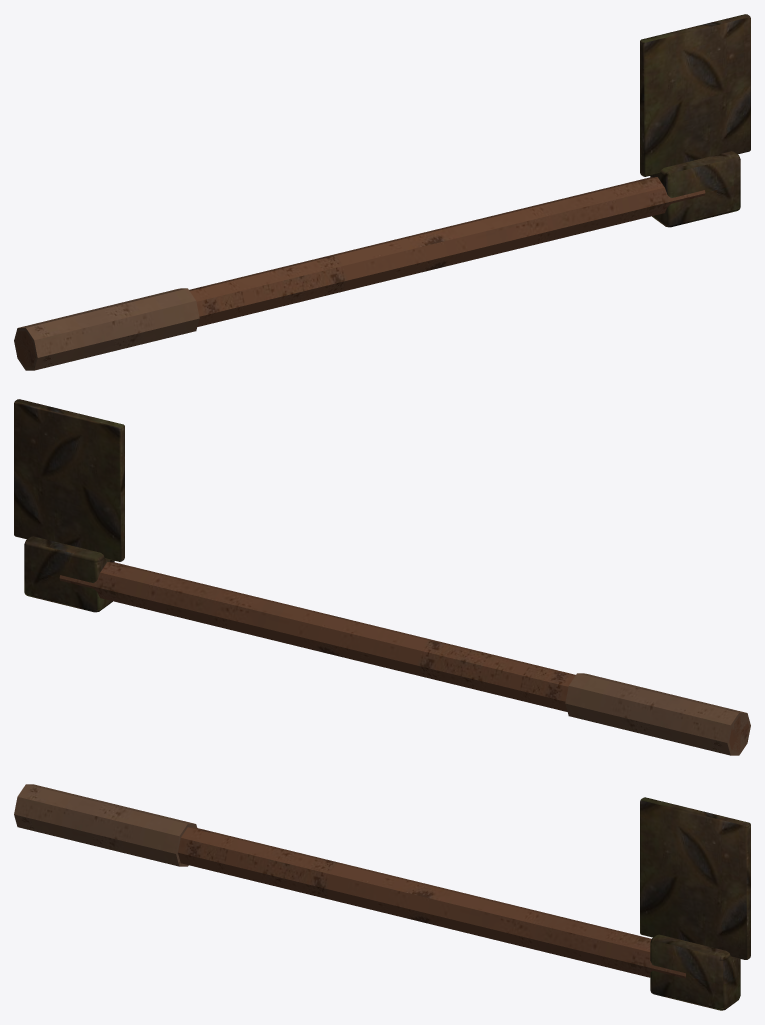
Rendered from held_tool_metal_hatchet.glb.
3 views of the same model, one above another, from view 1: azimuth 30°, elevation 25°; view 2: azimuth 150°, elevation 25°; view 3: azimuth 330°, elevation 25° (orthographic).
Visible parts, largest first — view 1: cyl, box.001, cyl.001, box; view 2: cyl, box.001, cyl.001, box; view 3: cyl, box.001, cyl.001, box.
Boxes of the visible parts, x1,y1,x2,y2 form: cyl: (16, 177, 705, 367); box.001: (640, 14, 750, 176); cyl.001: (14, 288, 199, 370); box: (650, 151, 740, 227); cyl: (59, 562, 748, 752); box.001: (14, 399, 124, 561); cyl.001: (565, 673, 750, 755); box: (24, 536, 114, 612); cyl: (178, 827, 685, 978); box.001: (640, 797, 750, 959); cyl.001: (14, 784, 197, 866); box: (650, 934, 740, 1010).
Size of the model in its own units: 0.67 by 0.165 by 0.038.
3 materials, 3 textured.
